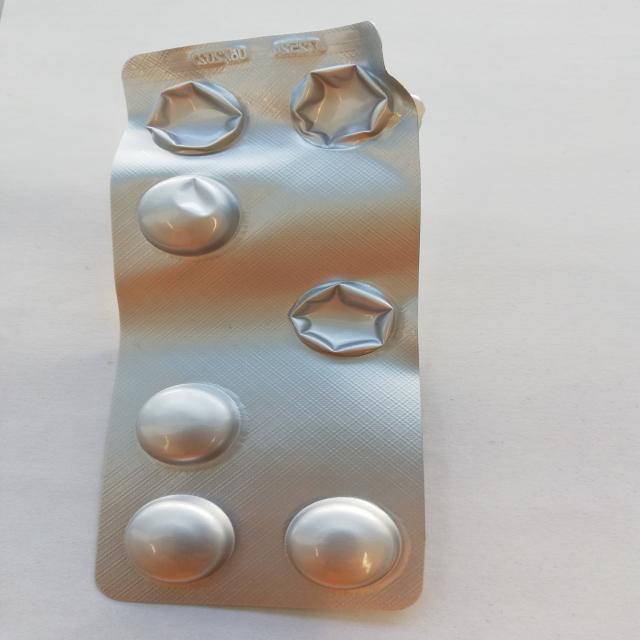Empty: (280, 268, 408, 367), (276, 57, 407, 147), (130, 75, 261, 157)
Pill: (276, 490, 413, 593), (109, 489, 248, 590), (122, 165, 250, 264), (132, 382, 248, 469)
